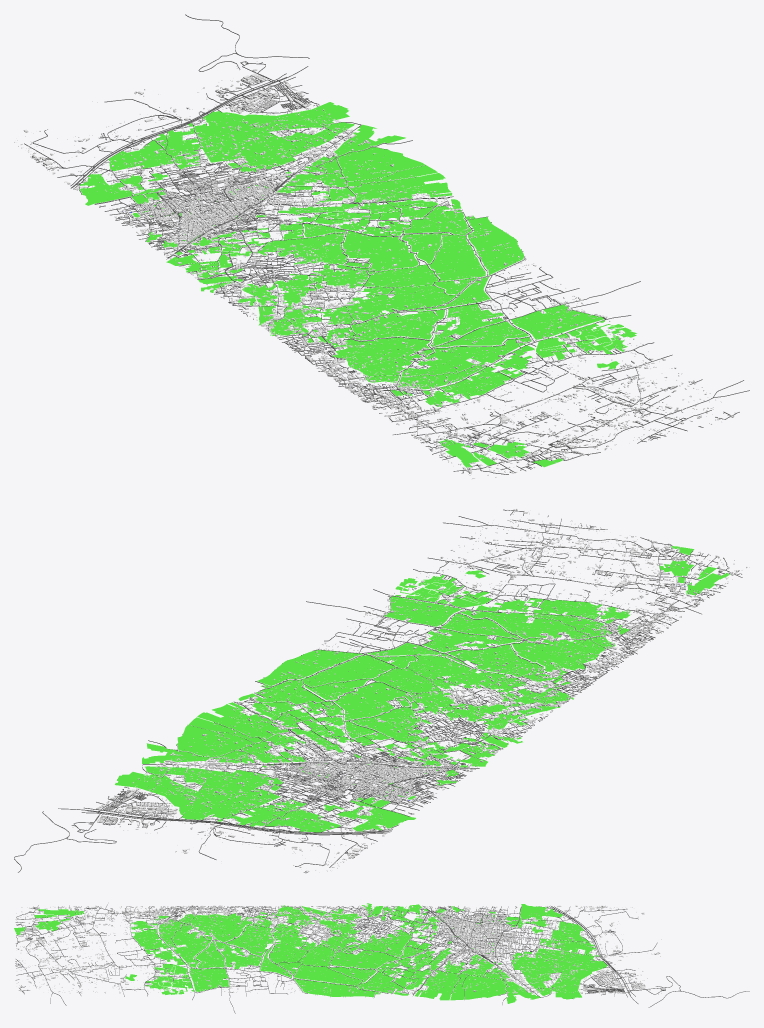
The model's file is damascus_tile_5.glb.
3 views of the same model, one above another, from view 1: azimuth 30°, elevation 25°; view 2: azimuth 150°, elevation 25°; view 3: azimuth 270°, elevation 25° (orthographic). The views are drawn at different scales.
Visible parts, largest first — view 1: damascus_tile_5_grass, damascus_tile_5_build, damascus_tile_5_road; view 2: damascus_tile_5_grass, damascus_tile_5_build, damascus_tile_5_road; view 3: damascus_tile_5_grass, damascus_tile_5_build, damascus_tile_5_road.
Part boxes in pixels (x1,y1,x2,y2): damascus_tile_5_grass: (80,102,636,467); damascus_tile_5_build: (14,61,736,479); damascus_tile_5_road: (24,14,749,474); damascus_tile_5_grass: (115,546,729,832); damascus_tile_5_build: (72,508,749,873); damascus_tile_5_road: (14,509,742,872); damascus_tile_5_grass: (14,903,607,1003); damascus_tile_5_build: (15,905,661,993); damascus_tile_5_road: (15,904,749,1013).
Bounding box in the file's own units: 244 × 1.04 × 682.
